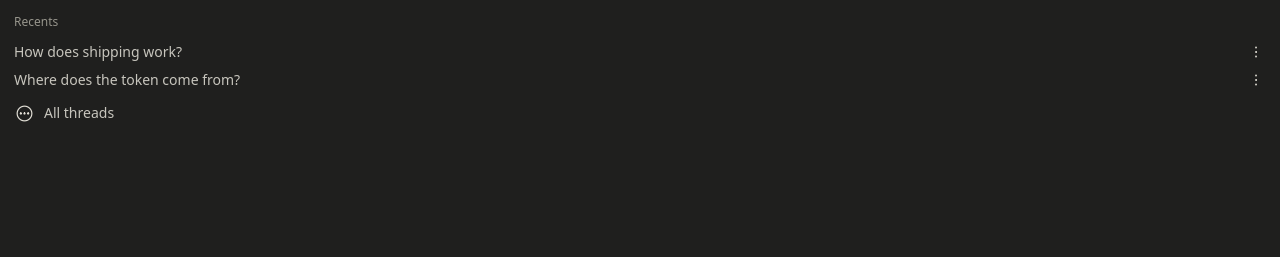
it: Threads › the row menu › offers Star first, and moves the row under Starred on the spot
This screenshot has width=1280, height=257.
Click the button named "Actions for Where does the token come from?".
click(1256, 80)  # box [1244,68,1268,92]
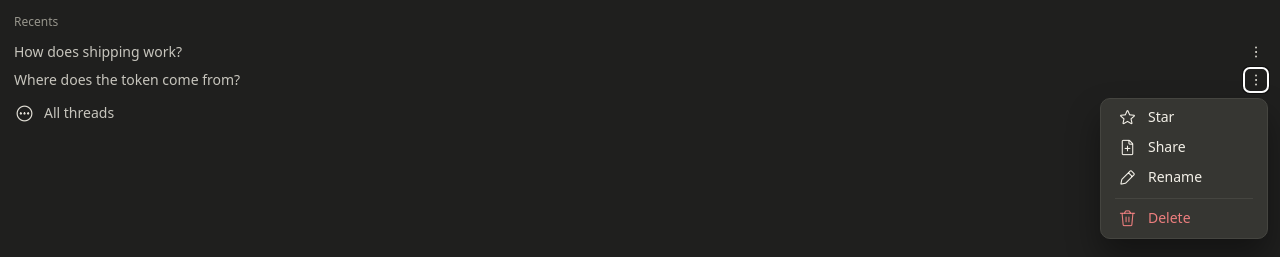
Click the menu item "Star".
click(1184, 118)  # box [1105,103,1263,133]
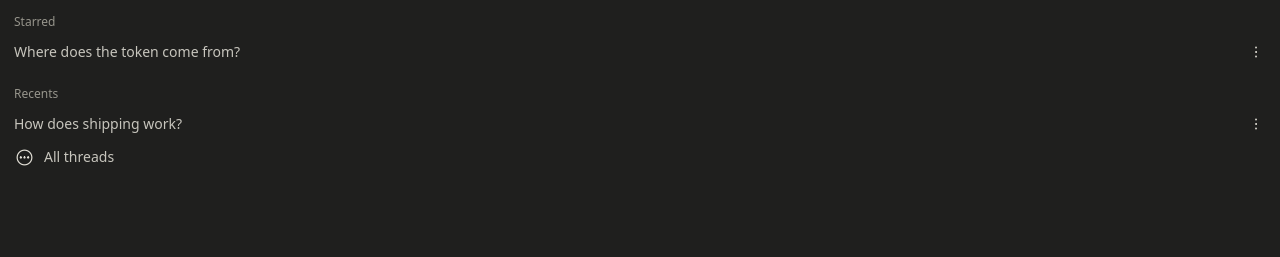
Expected: the number of buttons "Where does the token come from?" is 1, [14,38,1236,66]
Click the button named "Actions for Where does the token come from?".
click(1256, 52)  # box [1244,40,1268,64]
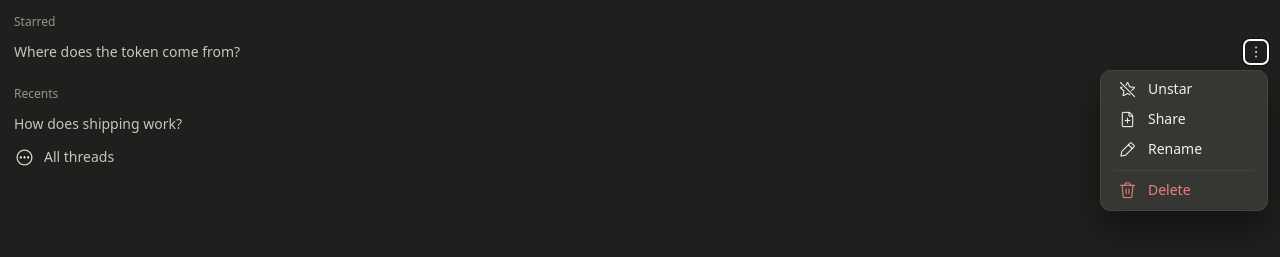
Click the menu item "Unstar".
click(1184, 90)  # box [1105,75,1263,105]
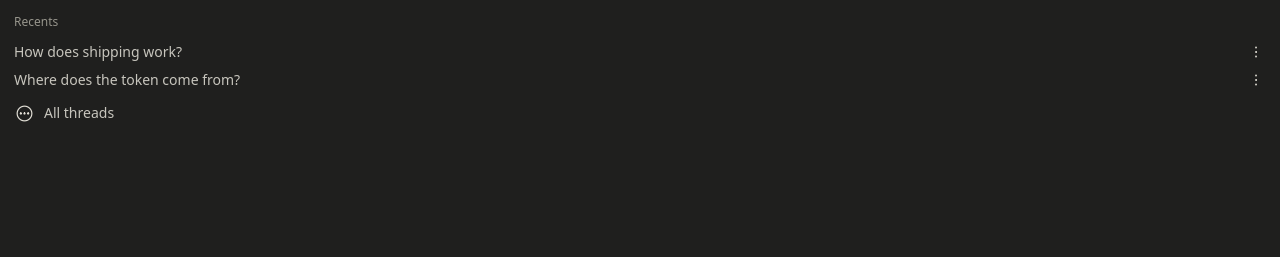
Expected: the button "Where does the token come from?" is shown, [14,66,1236,94]
Expected: the heading "Starred" is gone
